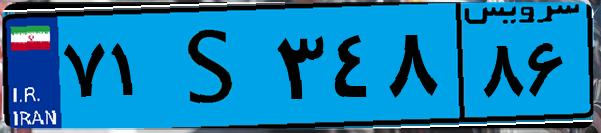1: (110, 28, 158, 98)
3: (270, 28, 330, 110)
4: (330, 28, 385, 110)
6: (525, 38, 570, 115)
7: (57, 26, 110, 100)
8: (385, 28, 445, 110), (475, 38, 525, 113)
S: (158, 12, 270, 120)
